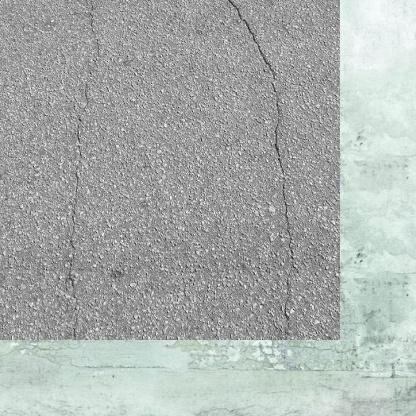Cracks: (205, 0, 275, 309), (60, 0, 95, 315)
